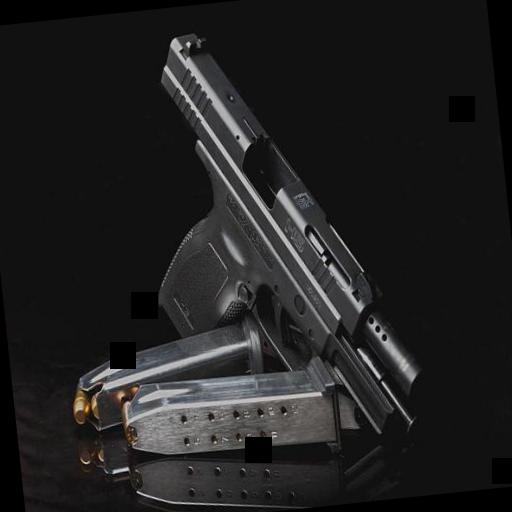Handgun: (126, 0, 432, 463)
